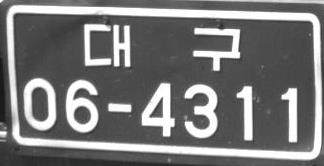0: (22, 77, 56, 131)
1: (230, 85, 263, 141), (275, 87, 304, 143)
3: (184, 84, 218, 139)
4: (141, 82, 174, 136)
6: (64, 78, 99, 132)
대구_D: (83, 22, 240, 72)
